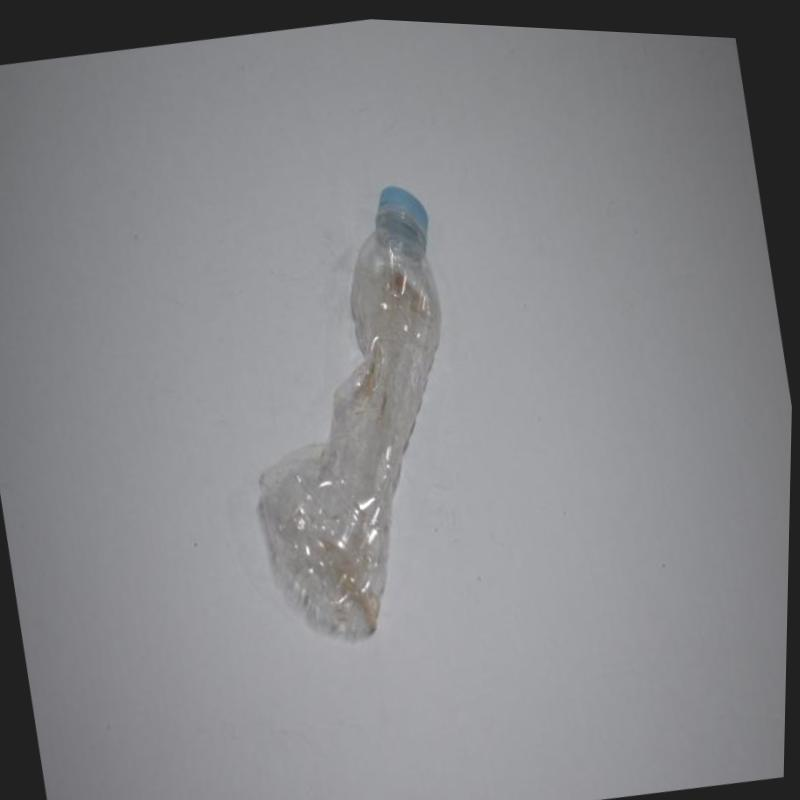botella: (201, 164, 502, 653)
